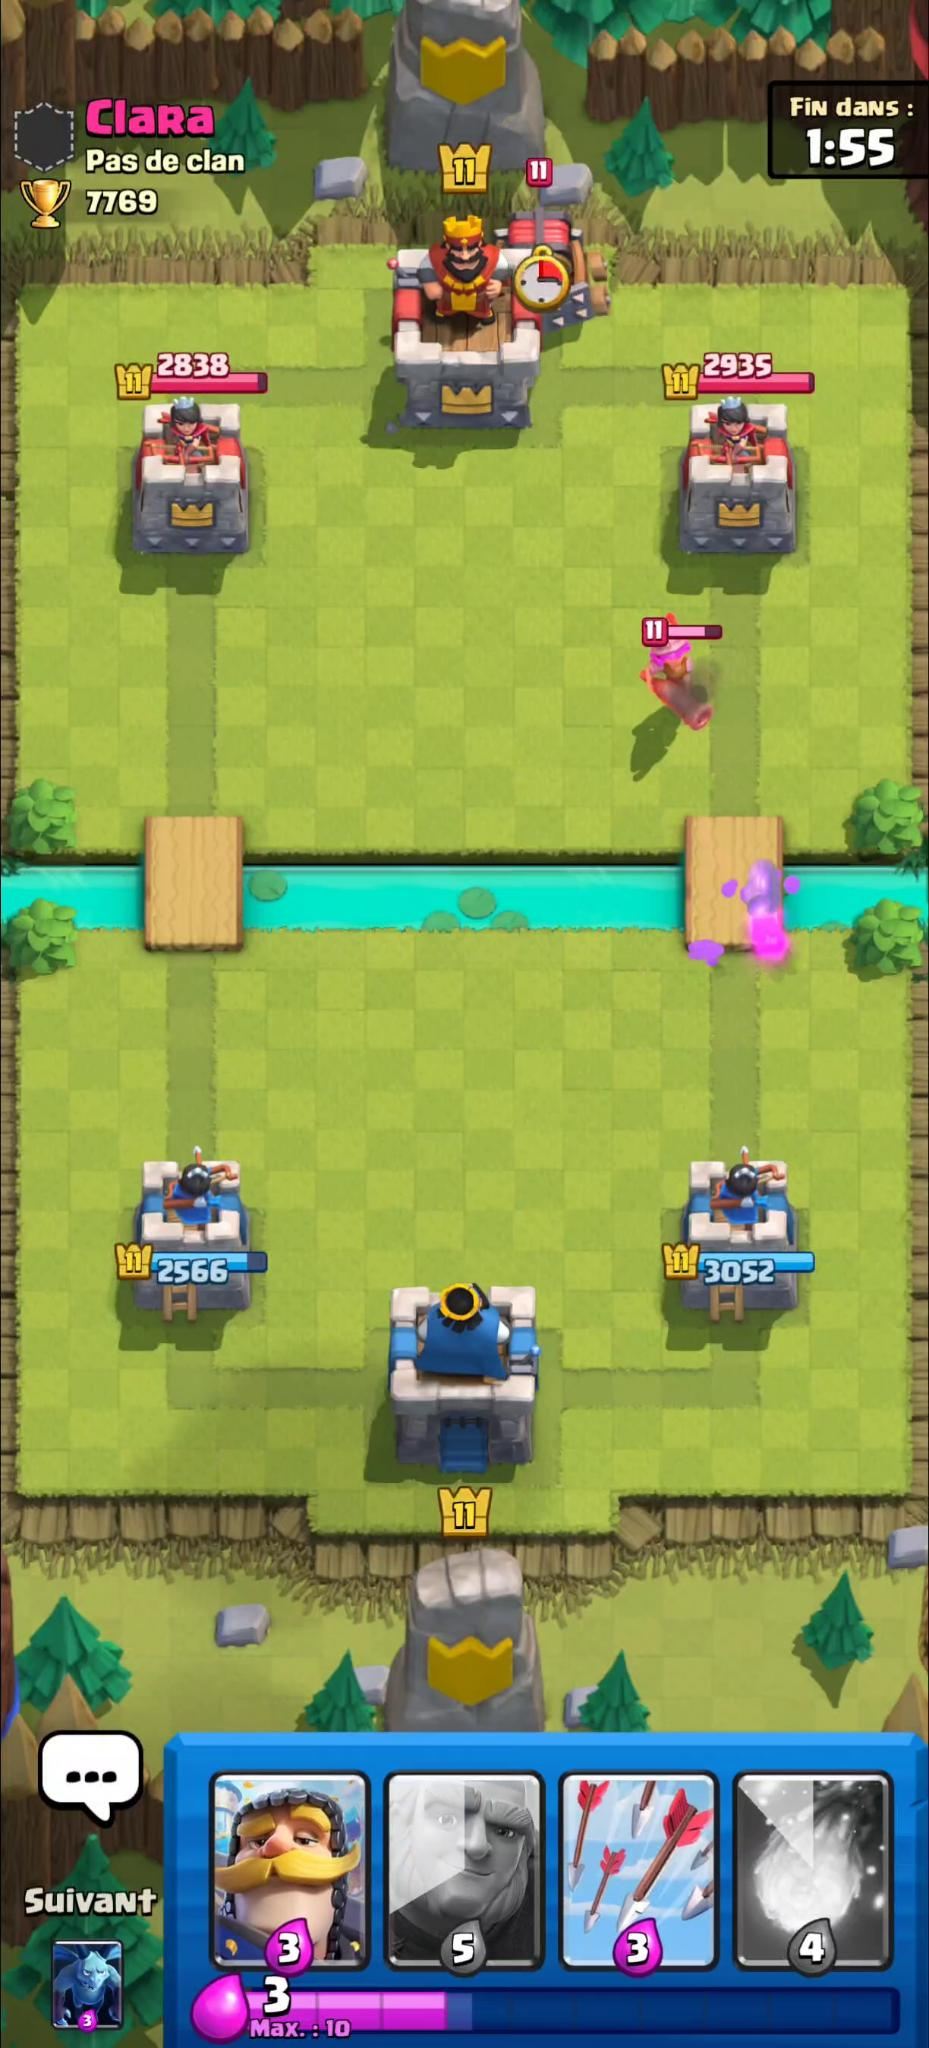mousquetaire: (638, 623, 720, 738)
zappy: (498, 209, 611, 334)
